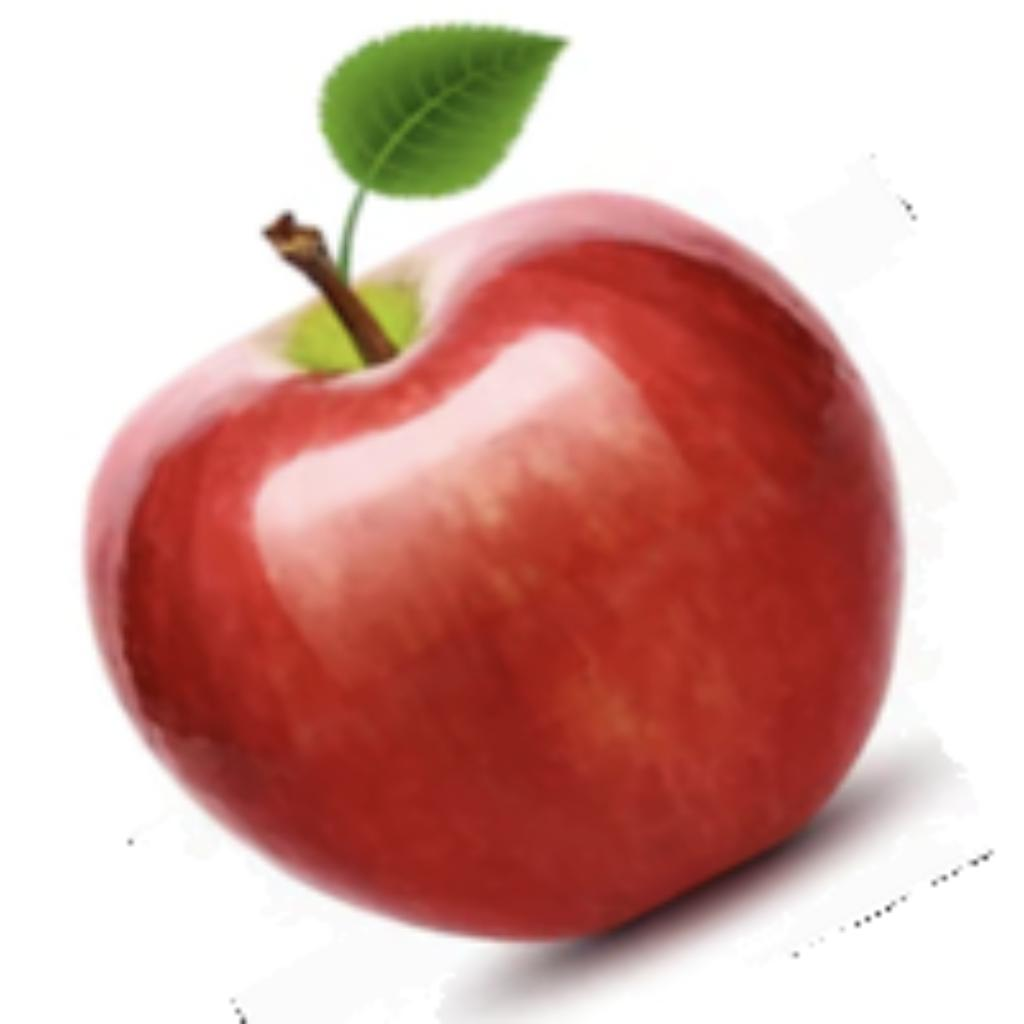apple: (72, 15, 978, 1019)
